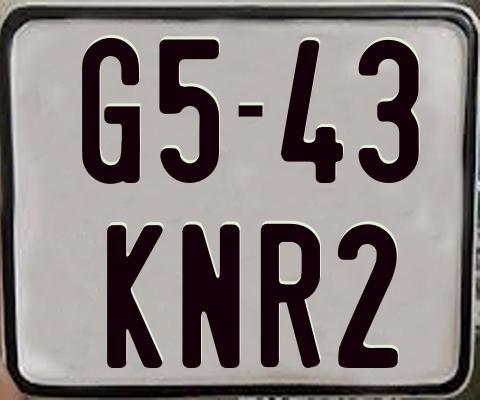2: (338, 221, 400, 370)
3: (356, 38, 422, 184)
4: (278, 38, 342, 181)
5: (157, 37, 218, 187)
G: (79, 36, 142, 186)
K: (106, 224, 168, 369)
N: (181, 222, 240, 371)
R: (259, 222, 324, 366)
